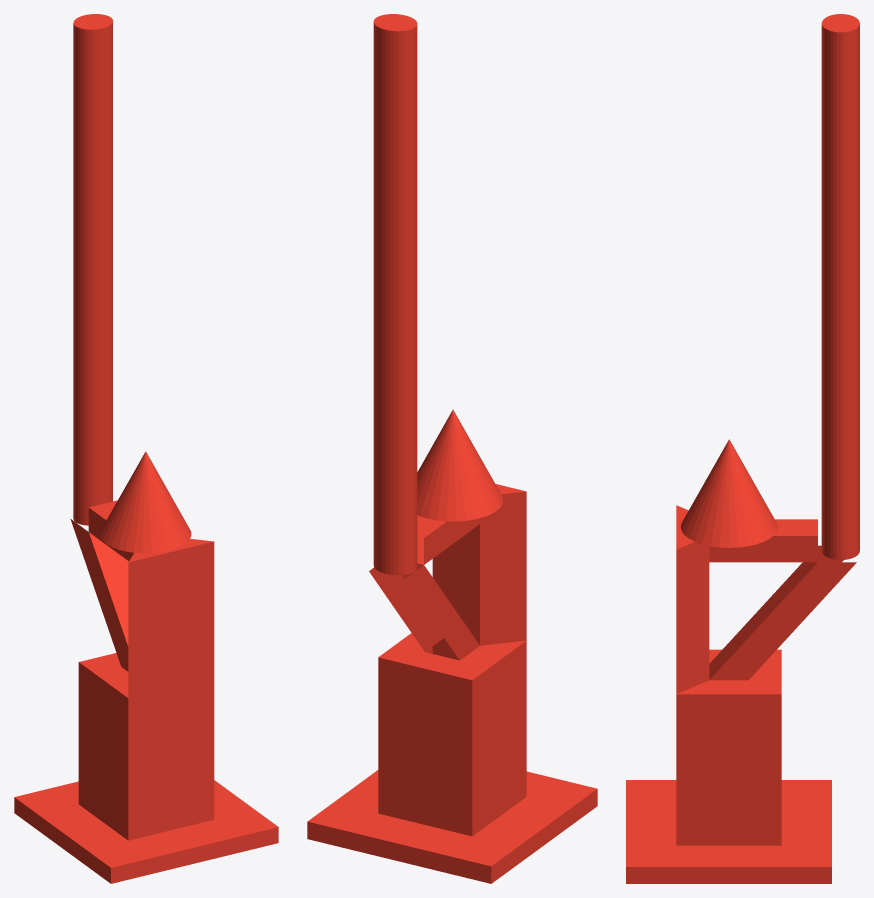
File: BajnocziBence_UNE00U.obj
3 views of the same model, side by side, from view 1: azimuth 30°, elevation 25°; view 2: azimuth 150°, elevation 25°; view 3: azimuth 270°, elevation 25° (orthographic). The views are drawn at different scales.
Visible parts, largest first — view 1: Cube; view 2: Cube; view 3: Cube.
Part boxes in pixels (left/top/right/bottom): Cube: left=14, top=14, right=278, bottom=883; Cube: left=307, top=14, right=597, bottom=883; Cube: left=626, top=14, right=859, bottom=883.
Size of the model in its own units: 2 by 8.76 by 2.27.
